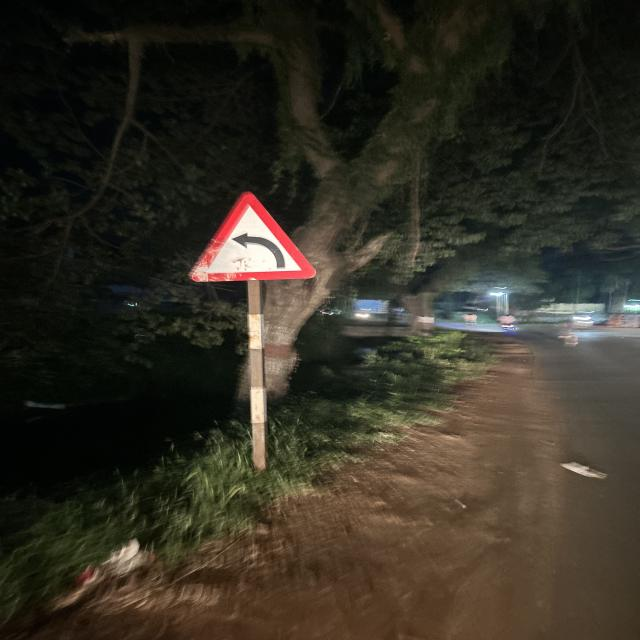left_hand_curve: (186, 188, 319, 286)
